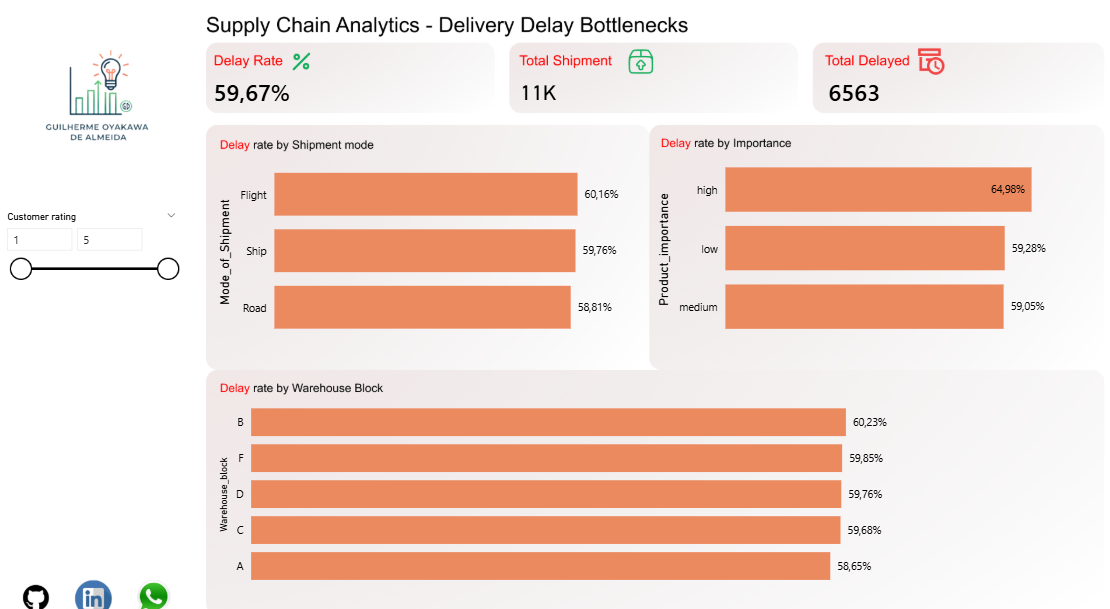

This screenshot's page, from the dashboard's own definition file:
{"tool":"powerbi","page":{"name":"Page 1","canvas":[1280,720],"ordinal":0},"visuals":[{"type":"cardVisual","fields":{"Data":["_measures.Delay Rate"]},"box":[232.9,71.4,148.6,64.3],"z":0},{"type":"clusteredBarChart","fields":{"Y":["_measures.Delay Rate"],"Category":["ecommerce_bi_guilherme.Mode_of_Shipment"]},"box":[257.1,152.9,468.6,251.4],"z":1000},{"type":"clusteredBarChart","fields":{"Y":["_measures.Delay Rate"],"Category":["ecommerce_bi_guilherme.Product_importance"]},"box":[758.6,152.9,482.9,261.4],"z":2000},{"type":"clusteredBarChart","fields":{"Y":["_measures.Delay Rate"],"Category":["ecommerce_bi_guilherme.Warehouse_block"]},"box":[267.1,440,775.7,248.6],"z":3000},{"type":"cardVisual","fields":{"Data":["_measures.Total Shipments"]},"box":[562.9,72.9,131.4,62.9],"z":4000},{"type":"cardVisual","fields":{"Data":["_measures.Delayed Shipments"]},"box":[920.4,73.1,122.2,63.5],"z":5000},{"type":"slicer","fields":{"Values":["ecommerce_bi_guilherme.Customer_rating"]},"box":[0,236.6,217.9,124.1],"z":6000},{"type":"actionButton","box":[191.7,647.6,54.8,59.5],"z":6001},{"type":"actionButton","box":[31,647.6,54.8,59.5],"z":6002},{"type":"actionButton","box":[111.9,647.6,54.8,59.5],"z":6003}]}

Visuals, with their boxes in screenshot pixels (x1, y1, x2, y2), scaled from the page's 1280x720 canvas onto the 1110x609 screenshot:
cardVisual - _measures.Delay Rate: (left=202, top=60, right=331, bottom=115)
clusteredBarChart - _measures.Delay Rate x ecommerce_bi_guilherme.Mode_of_Shipment: (left=223, top=129, right=629, bottom=342)
clusteredBarChart - _measures.Delay Rate x ecommerce_bi_guilherme.Product_importance: (left=658, top=129, right=1077, bottom=350)
clusteredBarChart - _measures.Delay Rate x ecommerce_bi_guilherme.Warehouse_block: (left=232, top=372, right=904, bottom=582)
cardVisual - _measures.Total Shipments: (left=488, top=62, right=602, bottom=115)
cardVisual - _measures.Delayed Shipments: (left=798, top=62, right=904, bottom=116)
slicer - ecommerce_bi_guilherme.Customer_rating: (left=0, top=200, right=189, bottom=305)
actionButton: (left=166, top=548, right=214, bottom=598)
actionButton: (left=27, top=548, right=74, bottom=598)
actionButton: (left=97, top=548, right=145, bottom=598)
